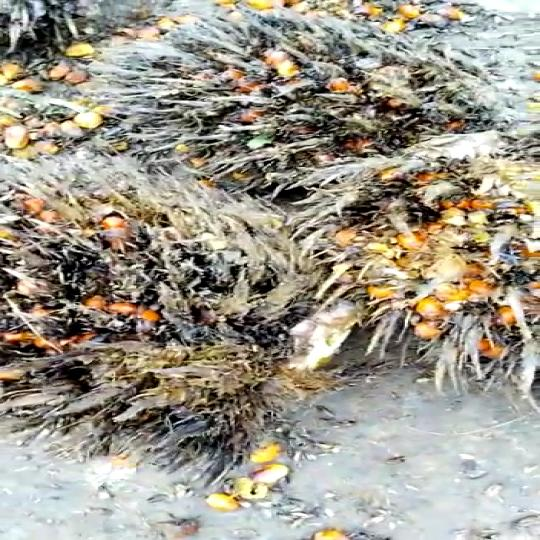terlalu masak: (0, 174, 356, 465), (91, 20, 500, 180), (307, 154, 540, 387)
